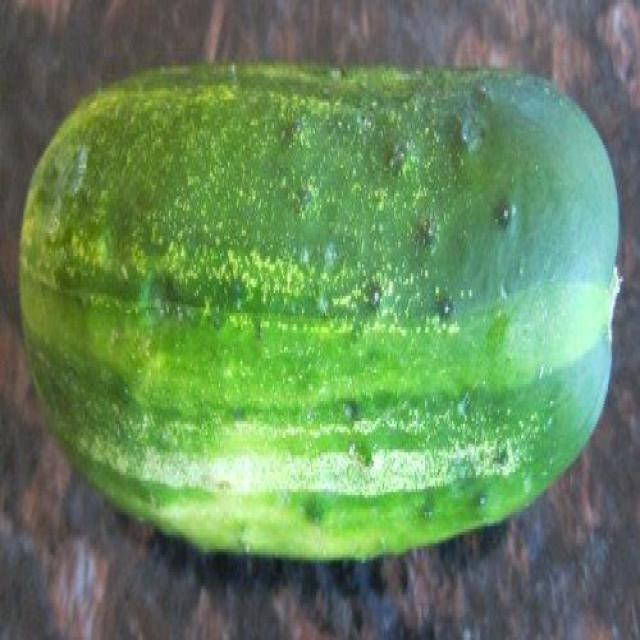cucumber: (23, 62, 621, 558)
